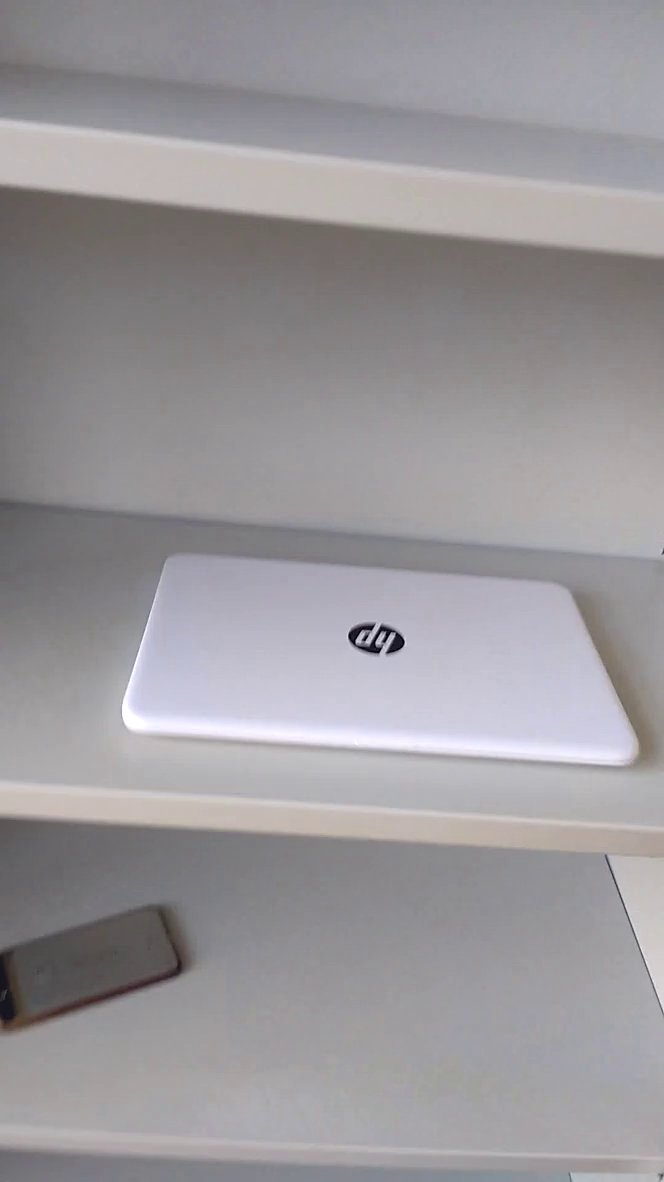laptop: (101, 526, 660, 797)
phone: (1, 887, 191, 1047)
